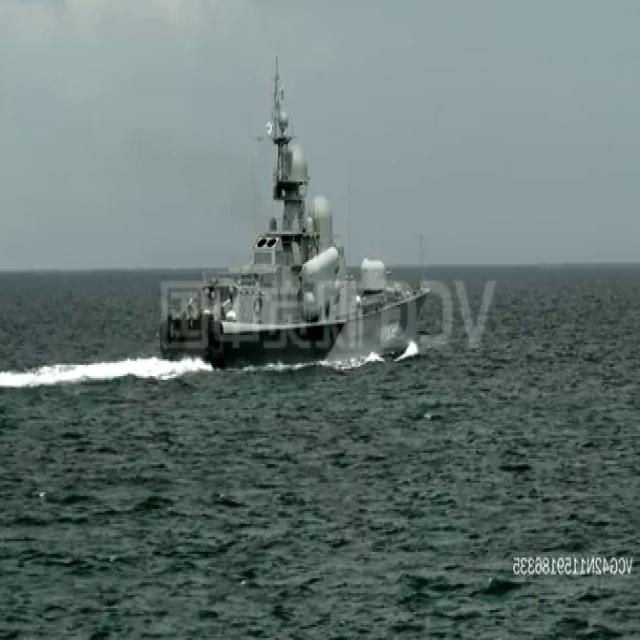houseboat: (156, 63, 430, 360)
